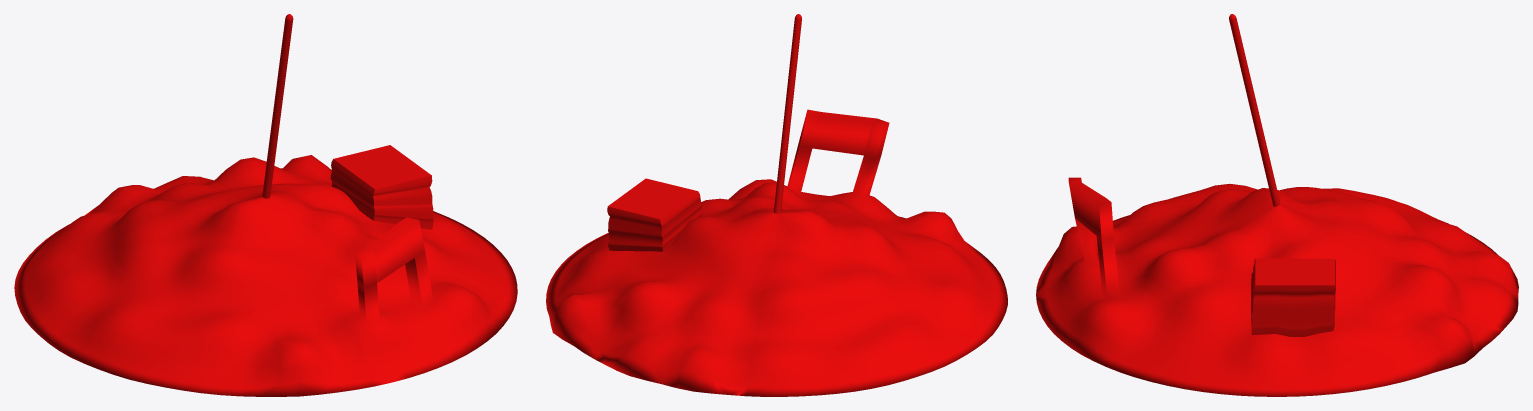
Rendered from HiPolyTrash.fbx.
3 views of the same model, side by side, from view 1: azimuth 30°, elevation 25°; view 2: azimuth 150°, elevation 25°; view 3: azimuth 270°, elevation 25° (orthographic). The views are drawn at different scales.
Visible parts, largest first — view 1: pCone3; view 2: pCone3; view 3: pCone3.
Part boxes in pixels (box(x1,y1,x2,y2)): pCone3: box(14, 14, 517, 396); pCone3: box(546, 14, 1007, 396); pCone3: box(1036, 14, 1518, 396).
Size of the model in its own units: 1.97 by 1.27 by 1.97.
